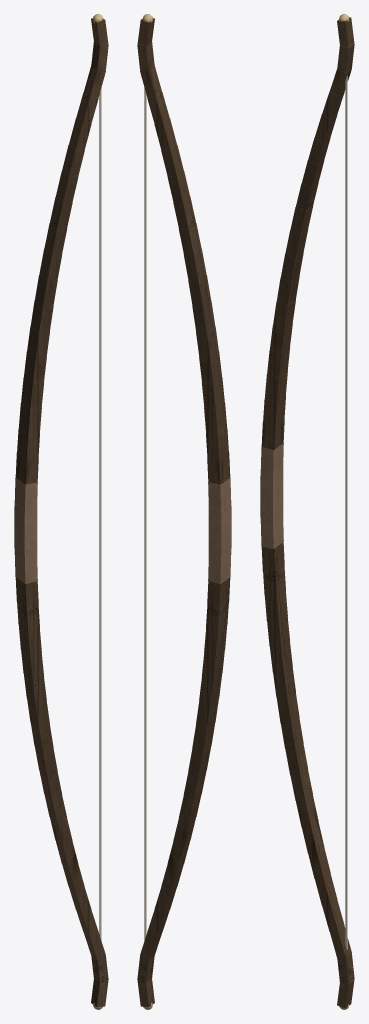
File: bow_long.glb
The picture shows the model from 3 angles, left to right: view 1: azimuth 30°, elevation 25°; view 2: azimuth 150°, elevation 25°; view 3: azimuth 330°, elevation 25°; orthographic projection.
Visible parts, largest first — view 1: bow_long; view 2: bow_long; view 3: bow_long.
Part boxes in pixels (x1,y1,x2,y2): bow_long: (14, 14, 108, 1009); bow_long: (137, 14, 231, 1009); bow_long: (260, 14, 354, 1009).
Size of the model in its own units: 0.1427 by 1.58 by 0.0297.
Materials: 4 (3 with a texture image).
